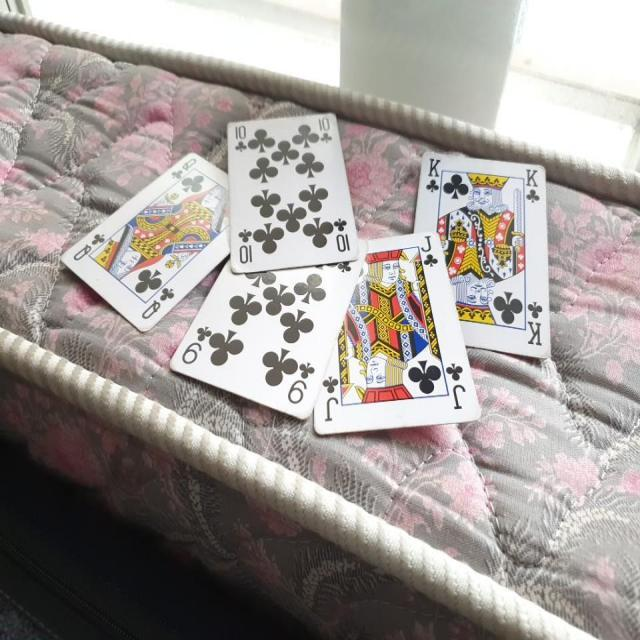10 of clubs: (224, 109, 362, 274)
9 of clubs: (168, 236, 370, 418)
jack of clubs: (311, 230, 478, 444)
king of clubs: (414, 148, 552, 360)
queen of clubs: (57, 150, 228, 334)
